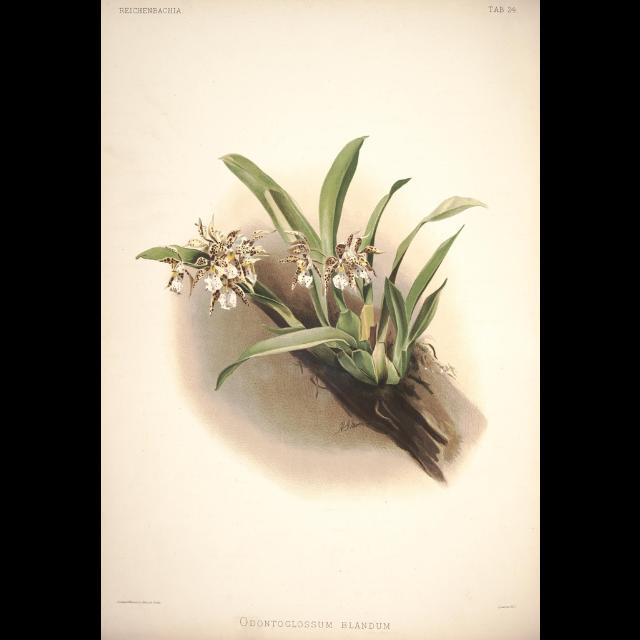Flower: (188, 154, 480, 470)
